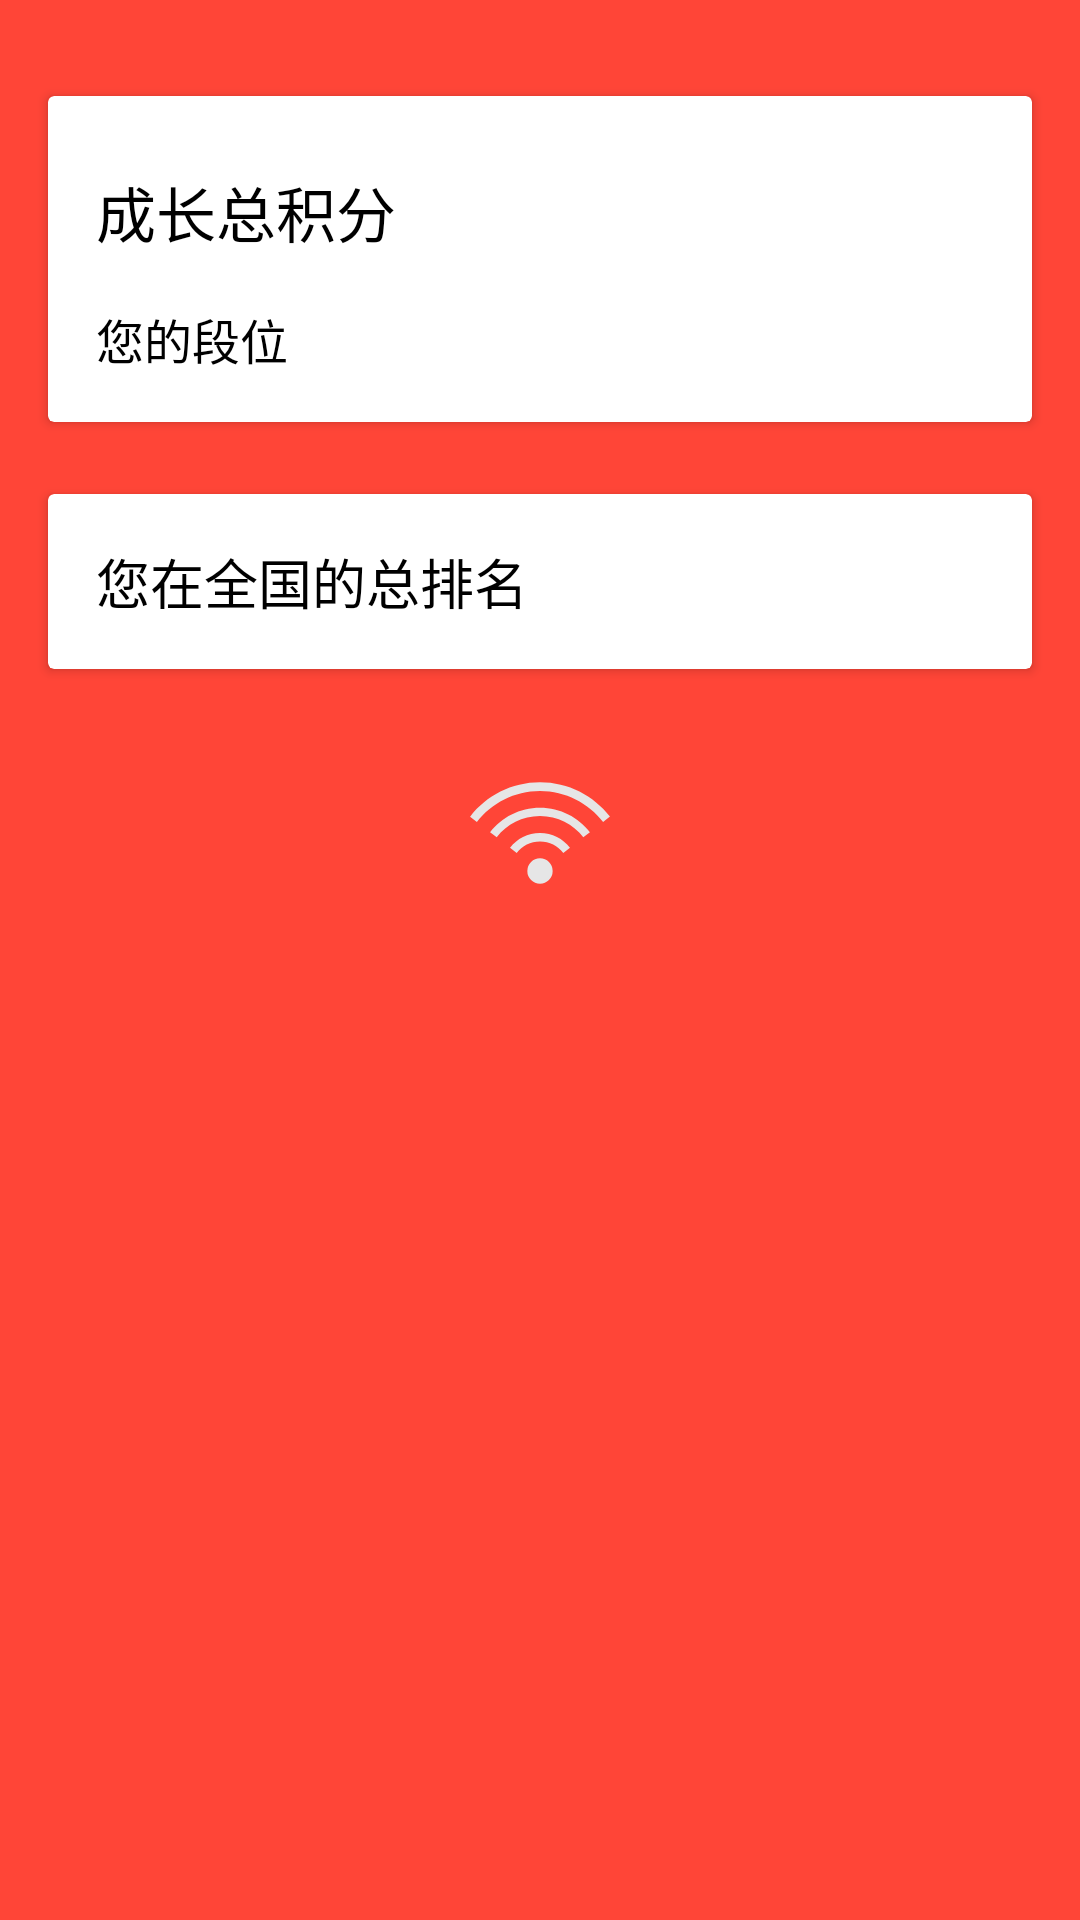

Named icons in this screenshot (1080×1920) and their centers, (x,y):
wifi: (540,833)
